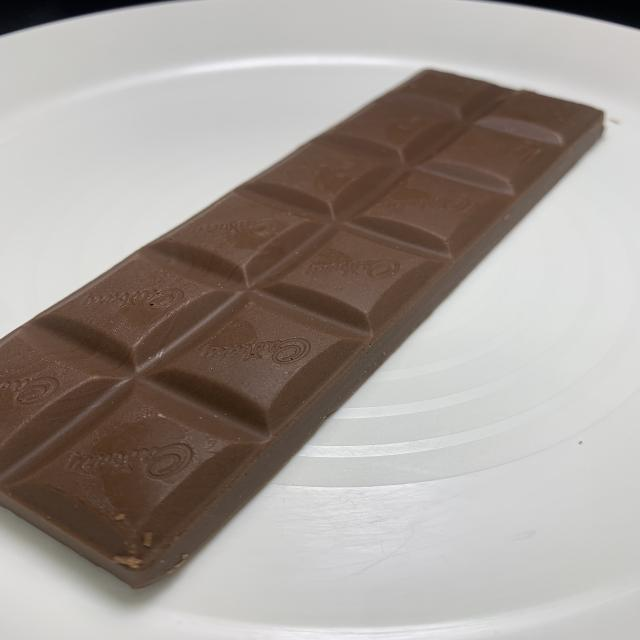Chocolate: (0, 69, 605, 590)
